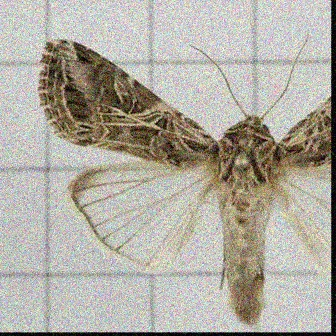Spodoptera litura: (36, 30, 331, 326)
